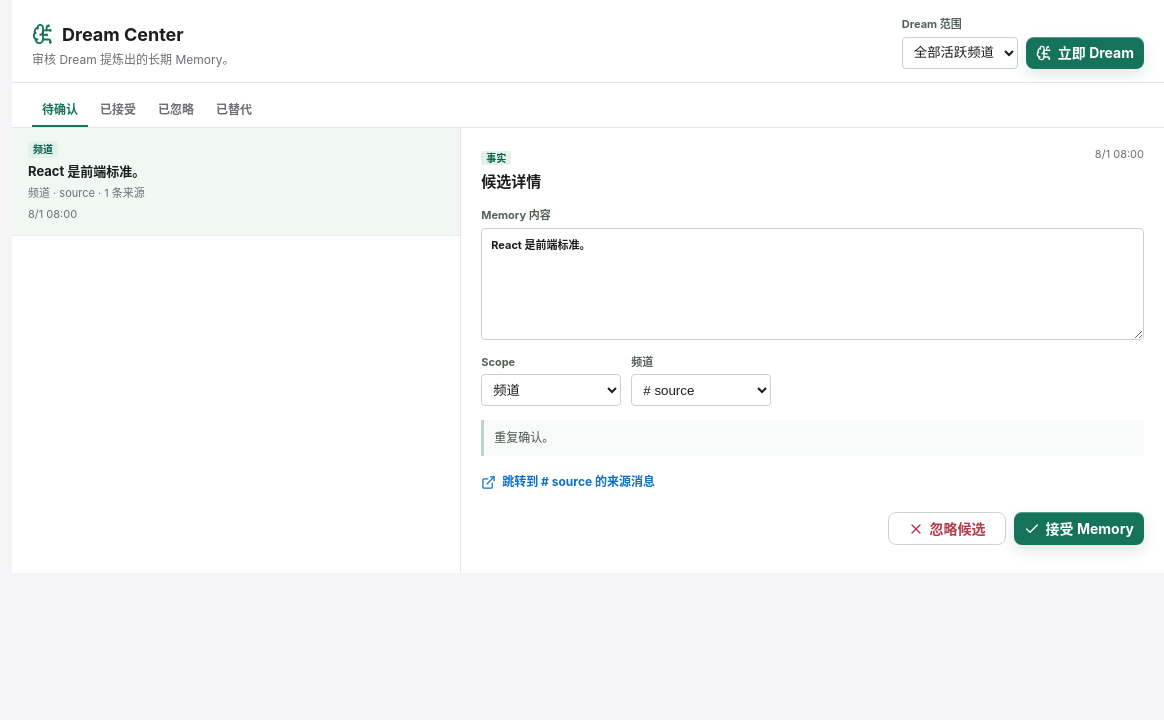
Test: DreamCenter › clears the running notice after a Dream poll request error
Click the button "立即 Dream". click: coordinates (1085, 52)
box: [1026,36,1144,68]
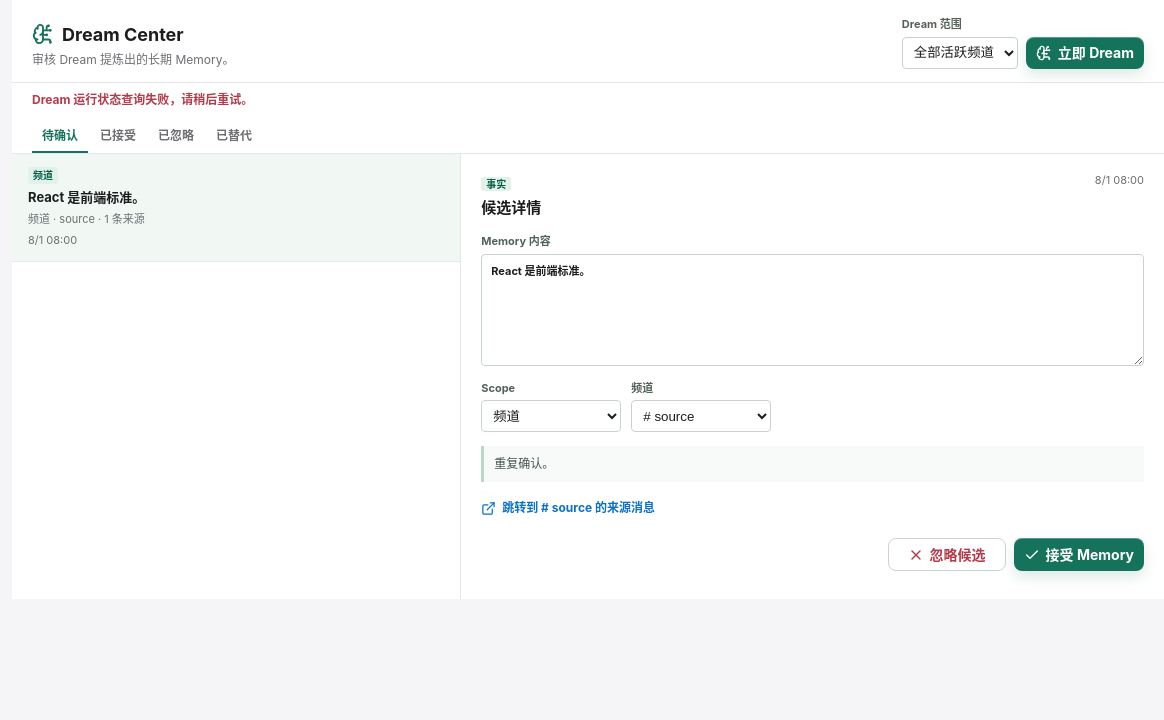
Expected: the dropdown labelled "Dream 范围" is enabled, [902,36,1018,68]
Expected: the message reads "Dream 运行状态查询失败，请稍后重试。", [32,92,253,106]
Expected: the number of messages is 1, [32,92,253,106]
